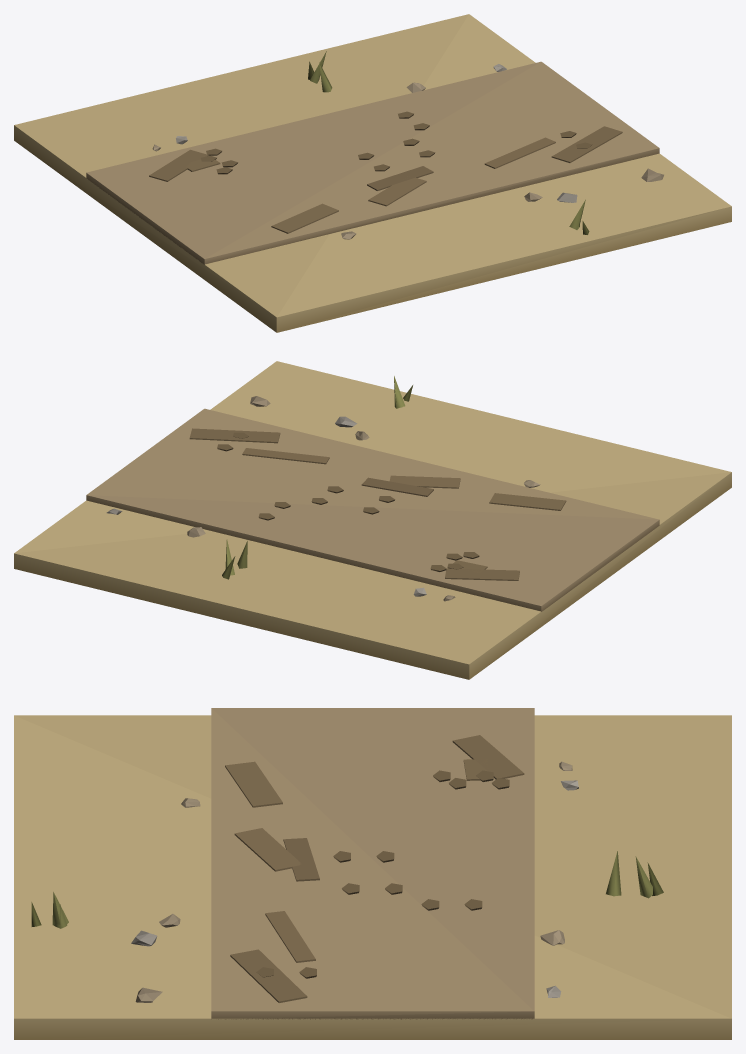
The model's file is track-caravan-open-tile.glb.
The picture shows the model from 3 angles, top to bottom: view 1: azimuth 30°, elevation 25°; view 2: azimuth 150°, elevation 25°; view 3: azimuth 270°, elevation 25°; orthographic projection. The views are drawn at different scales.
Parts seen in each view (by area): view 1: track_caravan_open_tile; view 2: track_caravan_open_tile; view 3: track_caravan_open_tile.
Part boxes in pixels (x1=…): track_caravan_open_tile: x1=14, y1=14, x2=731, y2=332; track_caravan_open_tile: x1=14, y1=361, x2=731, y2=679; track_caravan_open_tile: x1=14, y1=708, x2=731, y2=1039.
Size of the model in its own units: 4 by 0.4041 by 4.
